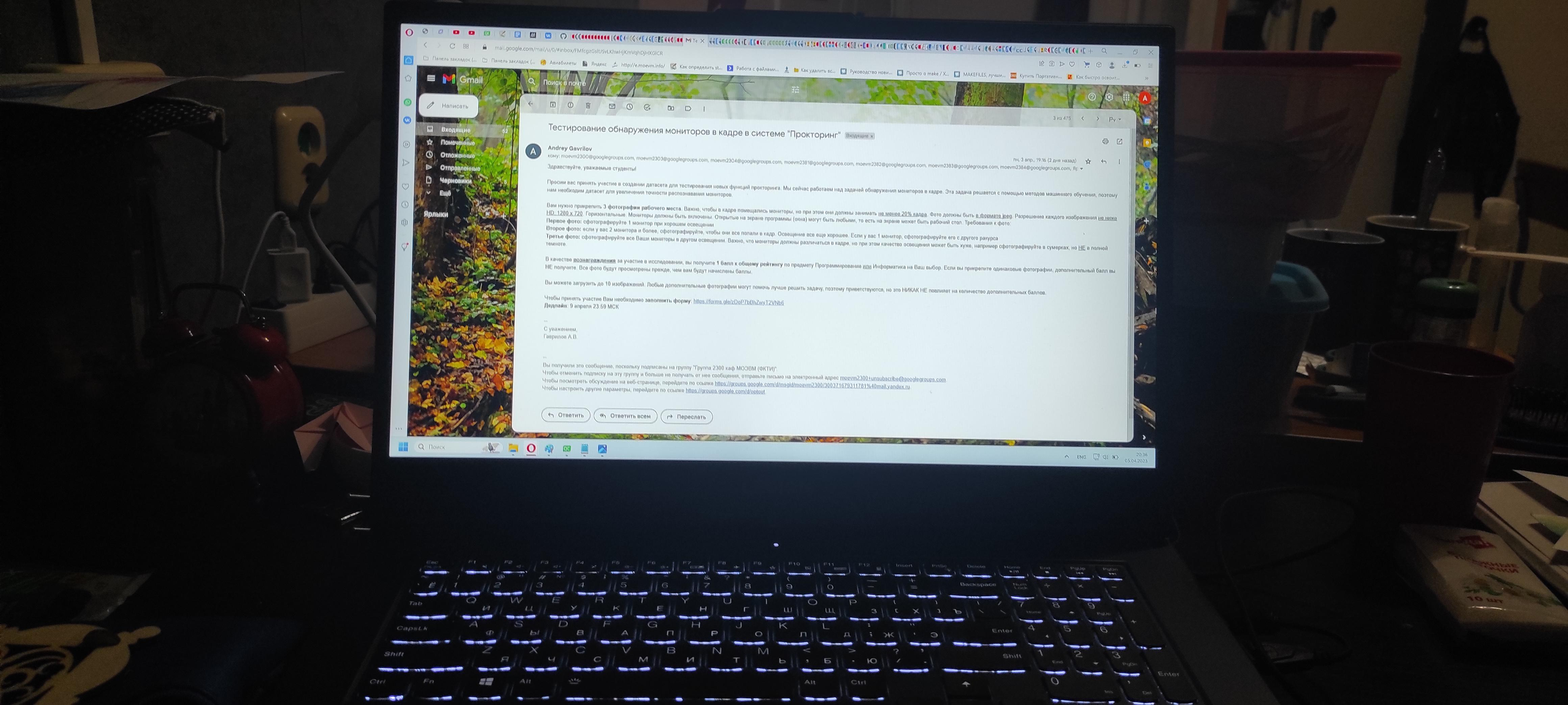monitor: (370, 0, 1183, 522)
